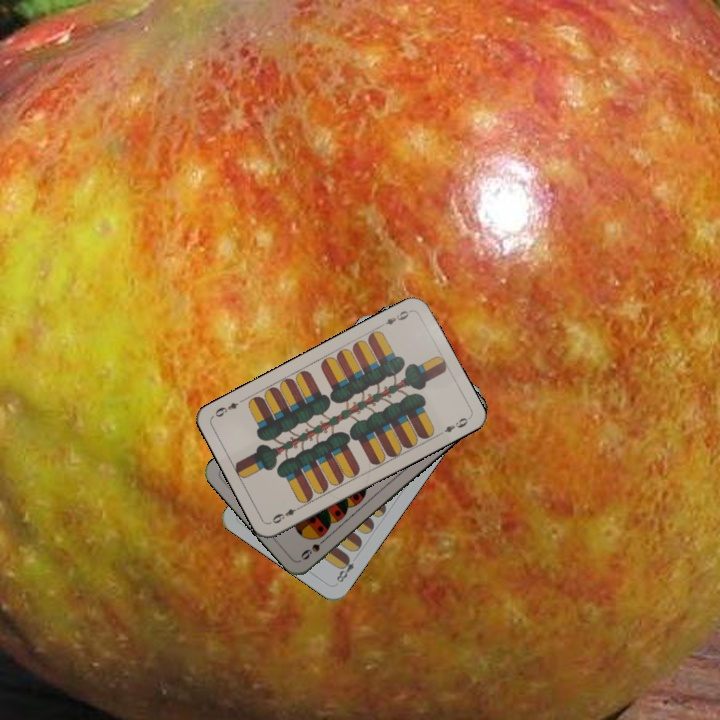E8: (332, 552, 357, 585)
E9: (376, 306, 414, 330), (268, 502, 304, 526)
S9: (297, 532, 331, 563)
